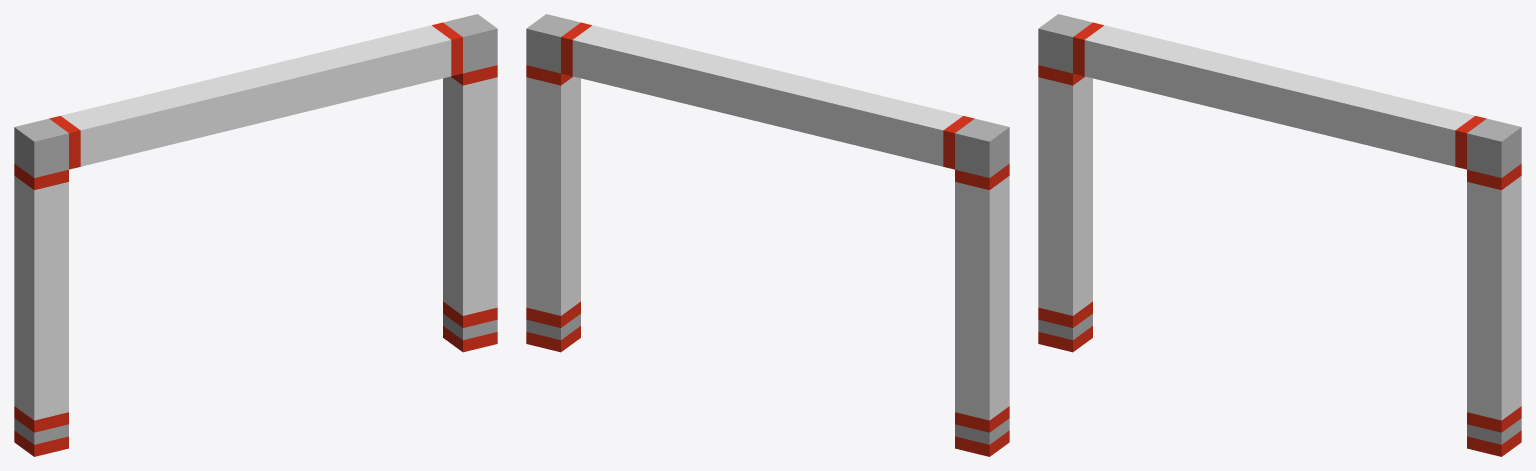
The model's file is cage.obj.
3 renders of one model, left to right at view 1: azimuth 30°, elevation 25°; view 2: azimuth 150°, elevation 25°; view 3: azimuth 330°, elevation 25°, orthographic.
Visible parts, largest first — view 1: cage; view 2: cage; view 3: cage.
Boxes of the visible parts, left/top/right/bottom form: cage: left=14, top=14, right=497, bottom=456; cage: left=526, top=14, right=1009, bottom=456; cage: left=1038, top=14, right=1521, bottom=456.
Size of the model in its own units: 40 by 26 by 3.
Materials: 1 (1 with a texture image).
